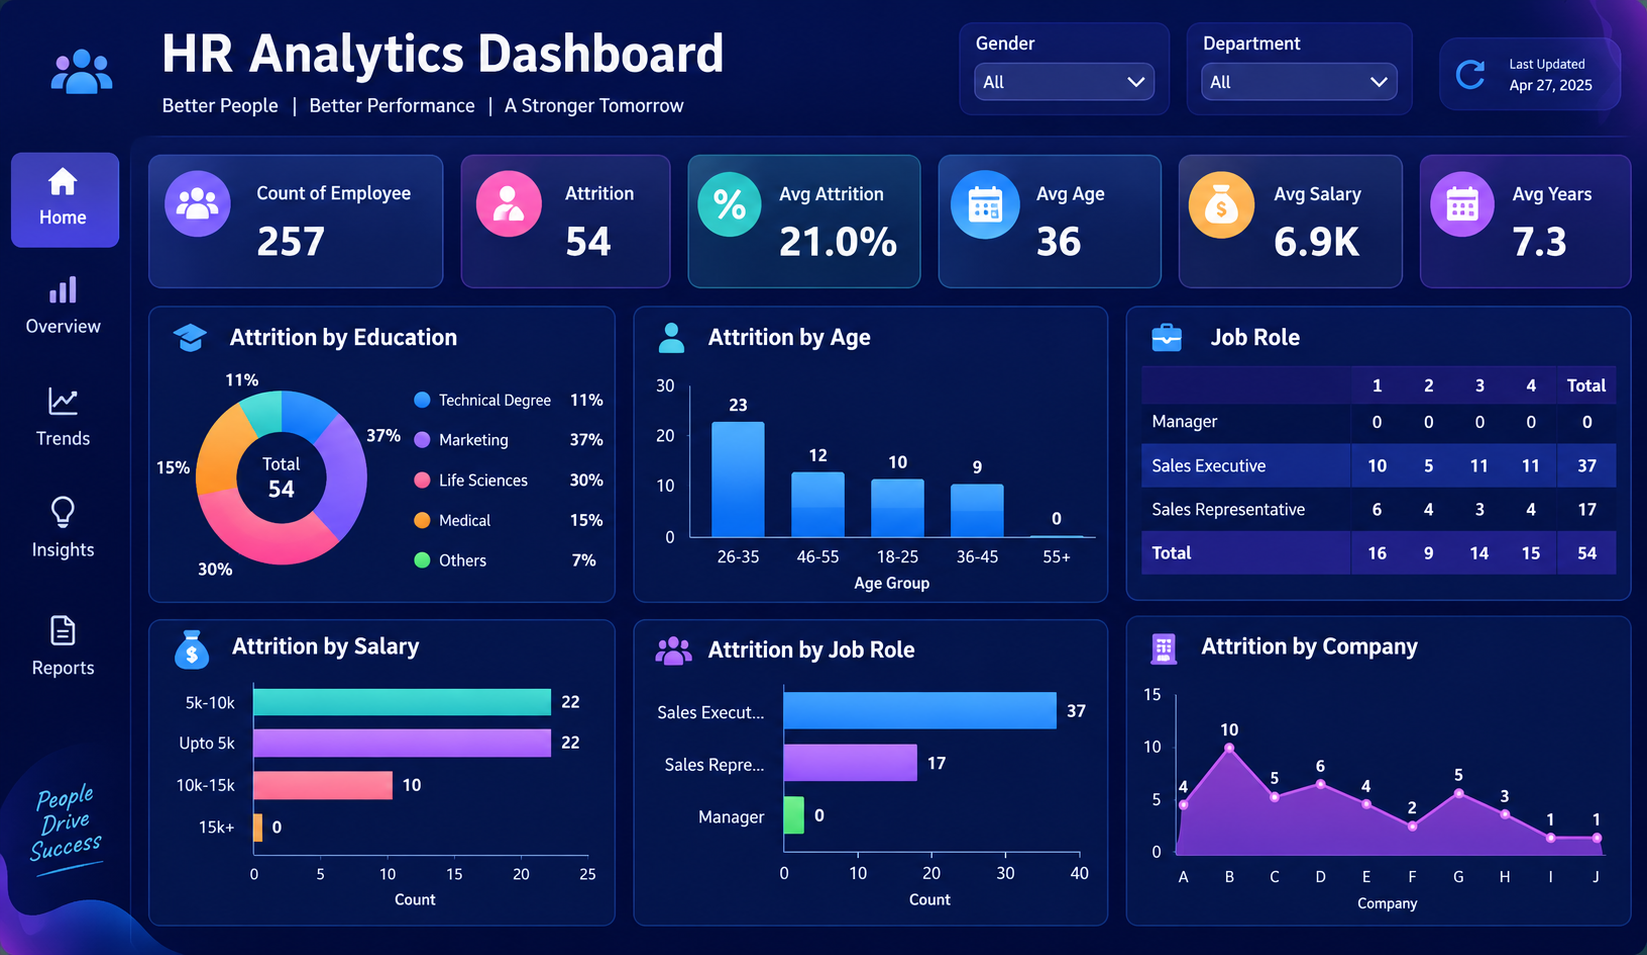

What the dashboard file says about the page in this screenshot:
{"tool":"powerbi","page":{"name":"Page 1","canvas":[1167,720],"ordinal":0},"visuals":[{"type":"donutChart","title":"Attrition by Education","fields":{"Category":["HR_Analytics.EducationField"],"Y":["Sum(HR_Analytics.AttritionCount)"]},"box":[11.3,245.2,370.3,221.4],"z":0},{"type":"card","title":"Attrition","fields":{"Values":["Sum(HR_Analytics.AttritionCount)"]},"box":[216.4,125.1,176.4,97.6],"z":1000},{"type":"card","title":"Avg Attrition","fields":{"Values":["HR_Analytics.AttritionRate"]},"box":[401.6,126.4,173.9,97.6],"z":2000},{"type":"card","title":"Avg Age","fields":{"Values":["Avg(HR_Analytics.Age)"]},"box":[584.3,127.6,180.2,97.6],"z":3000},{"type":"card","title":"Count of Employee","fields":{"Values":["Sum(HR_Analytics.EmployeeCount)"]},"box":[12.5,128.9,180.2,97.6],"z":4000},{"type":"textbox","box":[12.5,52.5,545.5,65.1],"z":5000},{"type":"card","title":"Avg Salary","fields":{"Values":["Avg(HR_Analytics.MonthlyIncome)"]},"box":[774.4,130.1,180.2,97.6],"z":6000},{"type":"card","title":"Avg Years","fields":{"Values":["Avg(HR_Analytics.YearsAtCompany)"]},"box":[964.6,131.4,180.2,97.6],"z":7000},{"type":"clusteredColumnChart","title":"Attrition by Age","fields":{"Y":["Sum(HR_Analytics.AttritionCount)"],"Category":["HR_Analytics.AgeGroup"]},"box":[395.3,245.2,369.1,221.4],"z":8000},{"type":"pivotTable","fields":{"Rows":["HR_Analytics.JobRole"],"Columns":["HR_Analytics.JobSatisfaction"],"Values":["Sum(HR_Analytics.AttritionCount)"]},"box":[785.7,245.2,359.1,221.4],"z":9000},{"type":"barChart","title":"Attrition by Salary","fields":{"Category":["HR_Analytics.SalarySlab"],"Y":["Sum(HR_Analytics.AttritionCount)"]},"box":[13.8,476.7,369.1,221.4],"z":10000},{"type":"barChart","title":"Attrition by Job Role","fields":{"Y":["Sum(HR_Analytics.AttritionCount)"],"Category":["HR_Analytics.JobRole"]},"box":[401.6,476.7,369.1,221.4],"z":11000},{"type":"areaChart","title":"Attrition by Company","fields":{"Category":["HR_Analytics.YearsAtCompany"],"Y":["Sum(HR_Analytics.AttritionCount)"]},"box":[785.7,477.9,369.1,221.4],"z":12000},{"type":"slicer","fields":{"Values":["HR_Analytics.Department"]},"box":[569.2,52.5,365.3,63.8],"z":13000},{"type":"slicer","fields":{"Values":["HR_Analytics.Gender"]},"box":[945.8,52.5,198.9,63.8],"z":14000}]}

Visuals, with their boxes on the page's 1167x720 design canvas (x1, y1, x2, y2). These are canvas units, not pixel positions in the 1647x955 screenshot, which may show the page scaled, cropped or inside an application window:
"Attrition by Education" donutChart: bbox(11, 245, 382, 467)
"Attrition" card: bbox(216, 125, 393, 223)
"Avg Attrition" card: bbox(402, 126, 576, 224)
"Avg Age" card: bbox(584, 128, 764, 225)
"Count of Employee" card: bbox(12, 129, 193, 226)
textbox: bbox(12, 52, 558, 118)
"Avg Salary" card: bbox(774, 130, 955, 228)
"Avg Years" card: bbox(965, 131, 1145, 229)
"Attrition by Age" clusteredColumnChart: bbox(395, 245, 764, 467)
pivotTable - HR_Analytics.JobRole x HR_Analytics.JobSatisfaction: bbox(786, 245, 1145, 467)
"Attrition by Salary" barChart: bbox(14, 477, 383, 698)
"Attrition by Job Role" barChart: bbox(402, 477, 771, 698)
"Attrition by Company" areaChart: bbox(786, 478, 1155, 699)
slicer - HR_Analytics.Department: bbox(569, 52, 934, 116)
slicer - HR_Analytics.Gender: bbox(946, 52, 1145, 116)
